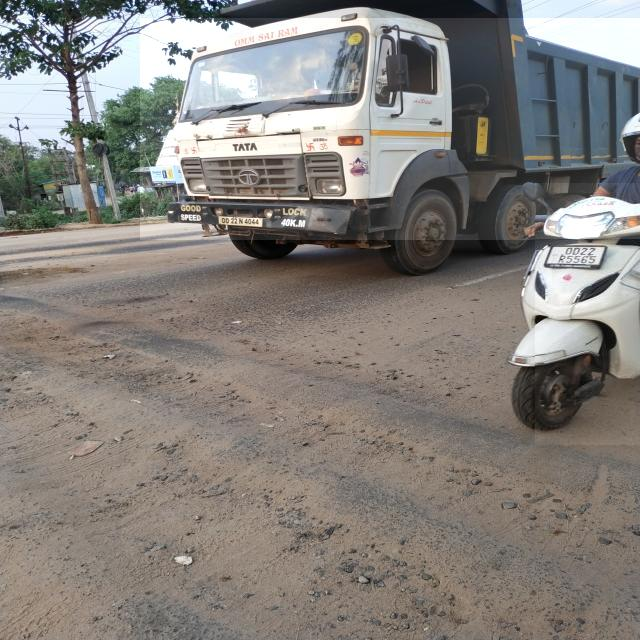Bike: (535, 184, 640, 446)
Truck: (140, 18, 640, 240)
